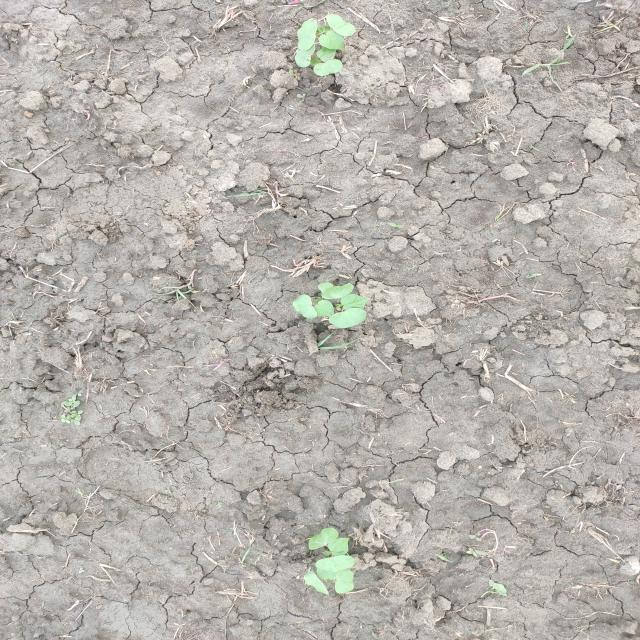seedling: (329, 308, 366, 329), (308, 527, 339, 550), (314, 555, 355, 572), (326, 14, 355, 36), (297, 19, 317, 50), (293, 294, 317, 319), (303, 570, 328, 594), (319, 30, 344, 51), (322, 283, 354, 299), (314, 59, 343, 76), (340, 294, 370, 310), (295, 44, 315, 67), (335, 569, 354, 593), (328, 538, 350, 556), (314, 300, 334, 316), (317, 47, 336, 62), (316, 568, 338, 580), (318, 282, 334, 293)
